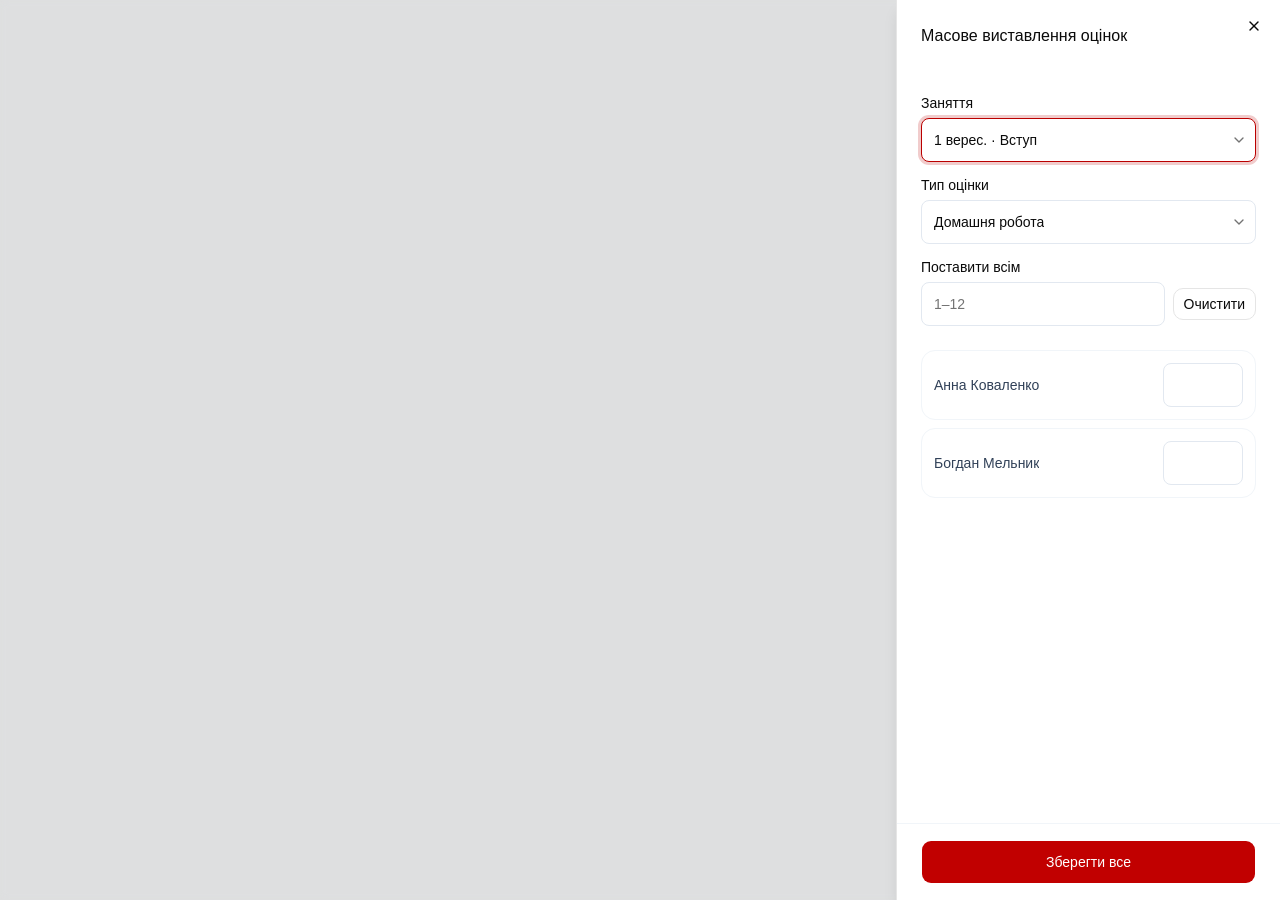
Test: BulkGradeForm › підсвічує саме недійсні оцінки й показує помилку біля кнопки
Type "9" into the number field named "Оцінка для Анна Коваленко" at point(1203, 385), box left=1163, top=363, right=1243, bottom=407
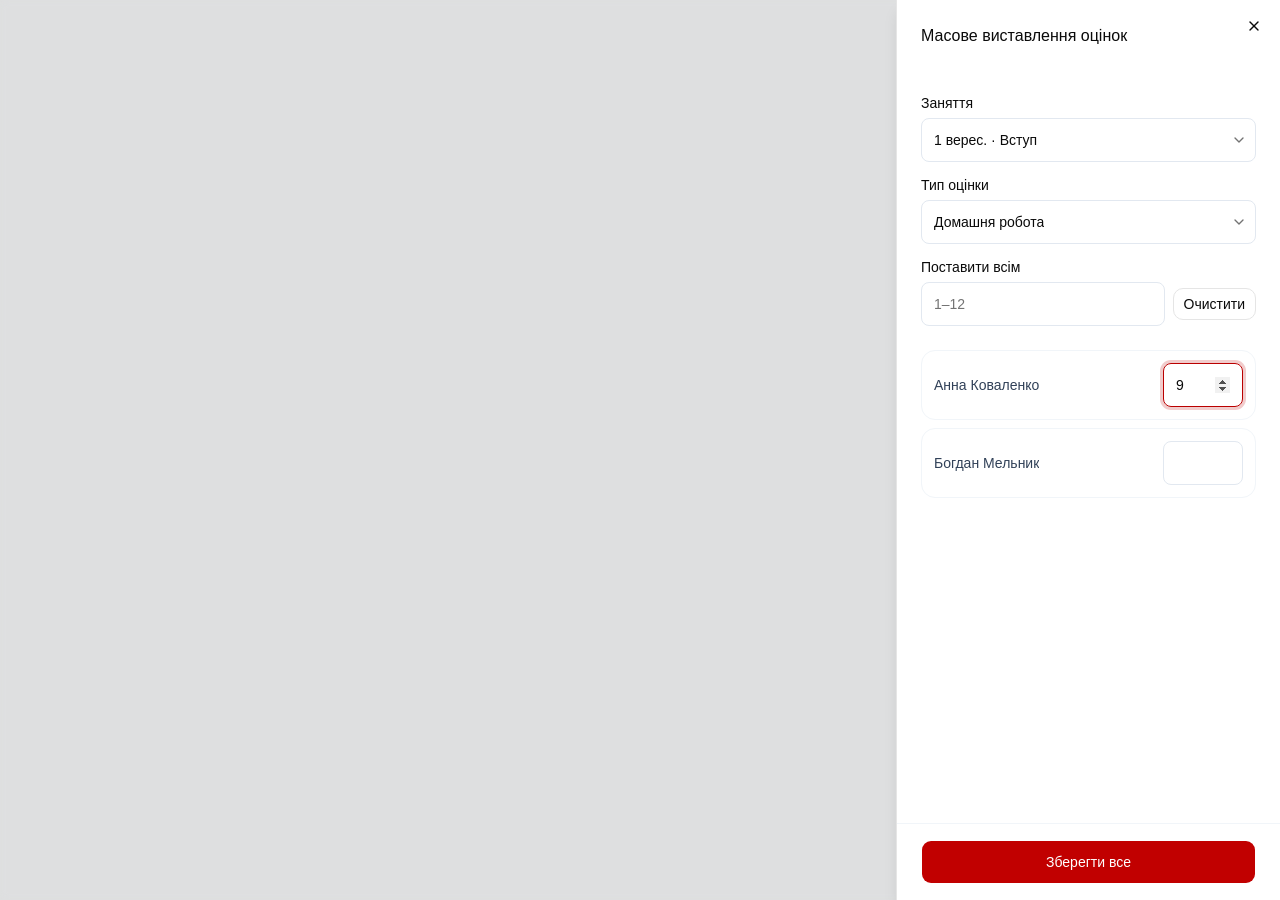
Type "15" into the number field named "Оцінка для Богдан Мельник" at point(1203, 463), box left=1163, top=441, right=1243, bottom=485
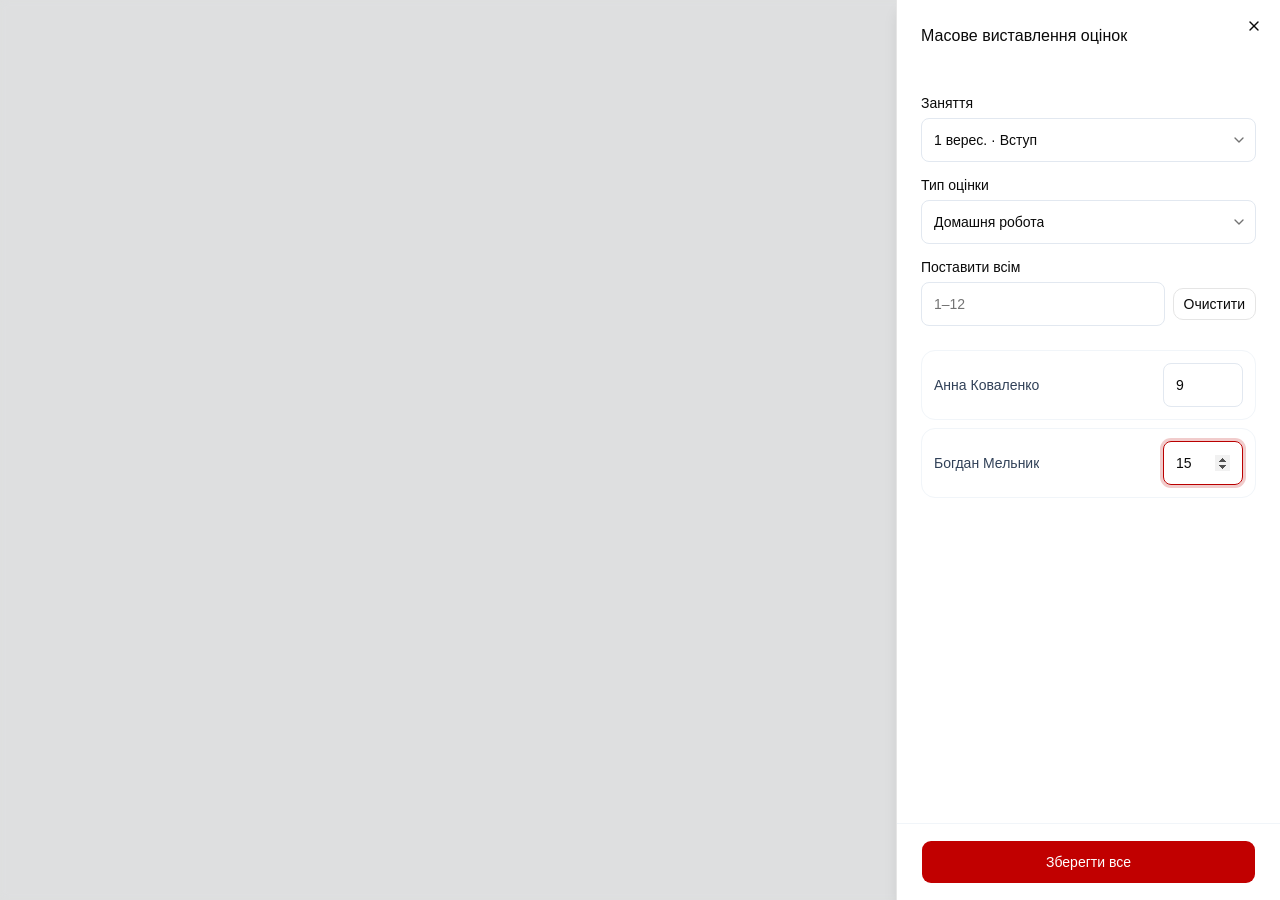
Click the button "Зберегти все" at point(1088, 862), box left=921, top=840, right=1256, bottom=884
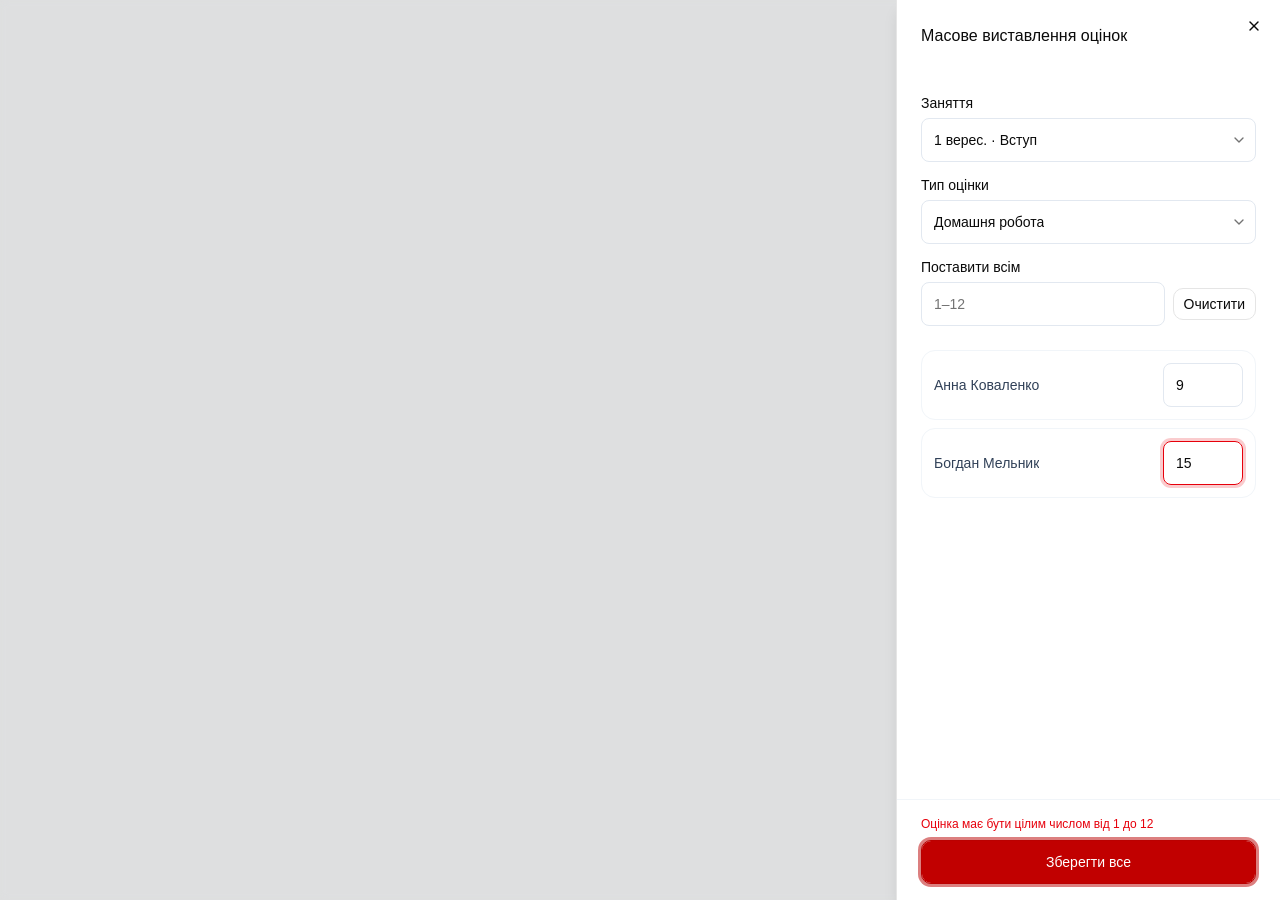
Check: the message reads "Оцінка має бути цілим числом від 1 до 12", box left=921, top=817, right=1154, bottom=831
